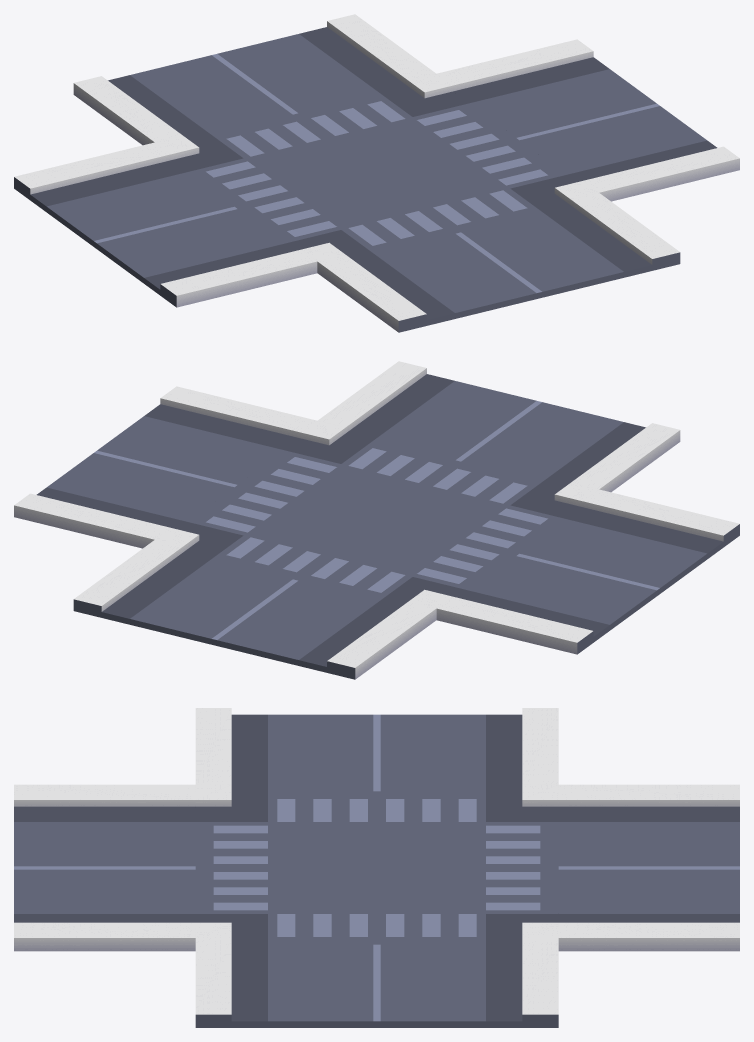
Rendered from road-4way.glb.
3 views of the same model, one above another, from view 1: azimuth 30°, elevation 25°; view 2: azimuth 150°, elevation 25°; view 3: azimuth 270°, elevation 25° (orthographic). The views are drawn at different scales.
Visible parts, largest first — view 1: road-crossroad-path, road-straight-half.002, road-straight-half.001, road-straight-half, road-straight-half.003; view 2: road-crossroad-path, road-straight-half.003, road-straight-half.001, road-straight-half, road-straight-half.002; view 3: road-crossroad-path, road-straight-half, road-straight-half.002, road-straight-half.003, road-straight-half.001.
Part boxes in pixels (box(x1,y1,x2,y2)): road-crossroad-path: box(155, 73, 598, 261); road-straight-half.002: box(317, 193, 680, 332); road-straight-half.001: box(14, 142, 317, 307); road-straight-half: box(437, 39, 739, 201); road-straight-half.003: box(73, 14, 435, 145); road-crossroad-path: box(155, 420, 598, 608); road-straight-half.003: box(73, 540, 436, 679); road-straight-half.001: box(436, 489, 739, 654); road-straight-half: box(14, 386, 316, 548); road-straight-half.002: box(318, 361, 680, 492); road-crossroad-path: box(195, 784, 558, 944); road-straight-half: box(195, 938, 558, 1027); road-straight-half.002: box(14, 784, 195, 951); road-straight-half.003: box(558, 784, 739, 951); road-straight-half.001: box(195, 708, 558, 791).
Bounding box in the file's own units: 1 × 0.02 × 1.
2 materials, 2 textured.
